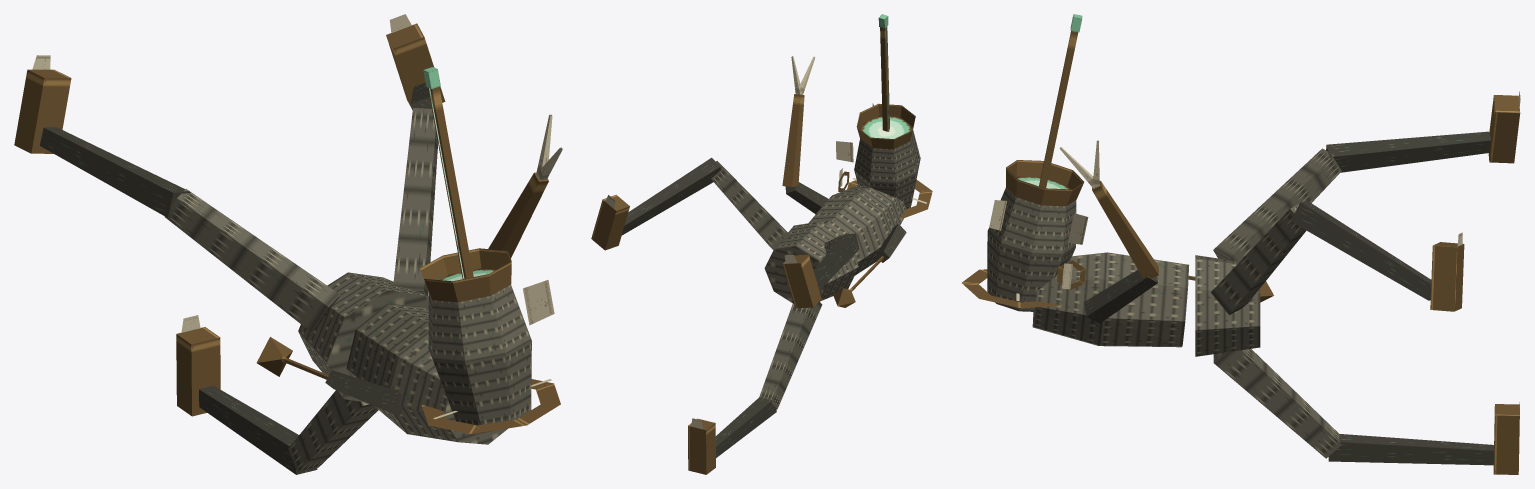
The model's file is surveyor_locomotion_a.obj.
The picture shows the model from 3 angles, left to right: view 1: azimuth 30°, elevation 25°; view 2: azimuth 150°, elevation 25°; view 3: azimuth 270°, elevation 25°; orthographic projection. The views are drawn at different scales.
Visible parts, largest first — view 1: head, torso, leg_fl_thigh, leg_fr_thigh, root, leg_fl_shin, leg_fl_foot, leg_rear_thigh, leg_rear_foot, leg_rear_shin, plumb, rod (+3 smaller); view 2: head, torso, root, leg_rear_thigh, caliper, leg_fr_shin, leg_fr_thigh, leg_fl_foot, leg_rear_shin, leg_rear_foot, leg_fr_foot, leg_fl_shin (+3 smaller); view 3: head, torso, leg_rear_thigh, root, leg_fl_shin, caliper, leg_fl_thigh, leg_rear_shin, leg_fr_shin, leg_fr_thigh, leg_fr_foot, leg_fl_foot (+3 smaller).
Boxes of the visible parts, x1,y1,x2,y2 form: head: [420, 248, 554, 432]; torso: [346, 303, 508, 444]; leg_fl_thigh: [165, 189, 340, 332]; leg_fr_thigh: [393, 108, 437, 295]; root: [298, 272, 428, 402]; leg_fl_shin: [39, 127, 190, 217]; leg_fl_foot: [14, 55, 71, 153]; leg_rear_thigh: [288, 390, 378, 472]; leg_rear_foot: [176, 315, 220, 416]; leg_rear_shin: [199, 385, 317, 474]; plumb: [256, 337, 402, 415]; rod: [423, 67, 473, 278]; head: [836, 103, 920, 209]; torso: [808, 168, 905, 275]; root: [764, 221, 858, 303]; leg_rear_thigh: [759, 301, 822, 409]; caliper: [782, 56, 828, 214]; leg_fr_shin: [621, 157, 720, 235]; leg_fr_thigh: [711, 161, 791, 250]; leg_fl_foot: [782, 254, 821, 308]; leg_rear_shin: [715, 397, 776, 457]; leg_rear_foot: [688, 418, 715, 474]; leg_fr_foot: [591, 194, 629, 250]; leg_fl_shin: [813, 233, 859, 290]; head: [987, 160, 1088, 311]; torso: [1032, 252, 1189, 347]; leg_rear_thigh: [1213, 349, 1341, 458]; root: [1195, 255, 1260, 356]; leg_fl_shin: [1326, 131, 1490, 172]; caliper: [1059, 140, 1158, 323]; leg_fl_thigh: [1213, 148, 1341, 261]; leg_rear_shin: [1328, 434, 1493, 465]; leg_fr_shin: [1290, 201, 1431, 300]; leg_fr_thigh: [1211, 203, 1306, 315]; leg_fr_foot: [1430, 232, 1464, 311]; leg_fl_foot: [1488, 91, 1520, 163].
Bounding box in the file's own units: 0.6512 × 0.86 × 0.9845.
Materials: 1 (1 with a texture image).
